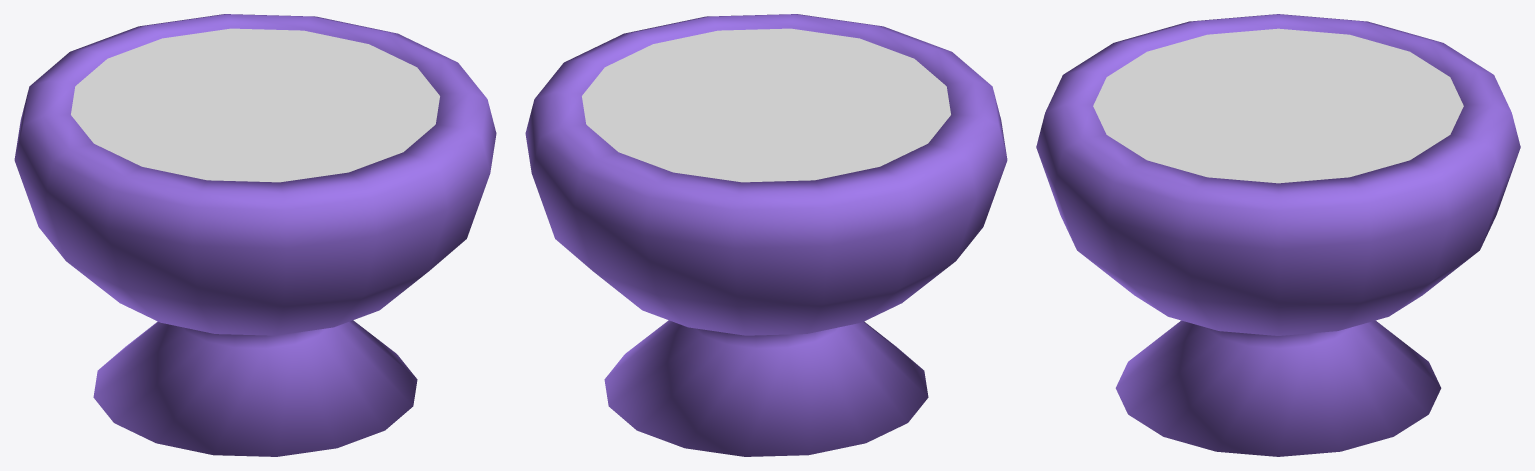
The model's file is glass4.fbx.
3 renders of one model, left to right at view 1: azimuth 30°, elevation 25°; view 2: azimuth 150°, elevation 25°; view 3: azimuth 270°, elevation 25°, orthographic.
Parts seen in each view (by area): view 1: glass5, liquid5; view 2: glass5, liquid5; view 3: glass5, liquid5.
Part boxes in pixels (x1=…): glass5: x1=14, y1=14, x2=496, y2=456; liquid5: x1=71, y1=28, x2=439, y2=182; glass5: x1=525, y1=14, x2=1007, y2=456; liquid5: x1=582, y1=28, x2=950, y2=182; glass5: x1=1036, y1=14, x2=1520, y2=456; liquid5: x1=1093, y1=28, x2=1463, y2=183.
Size of the model in its own units: 257 by 166 by 257.
